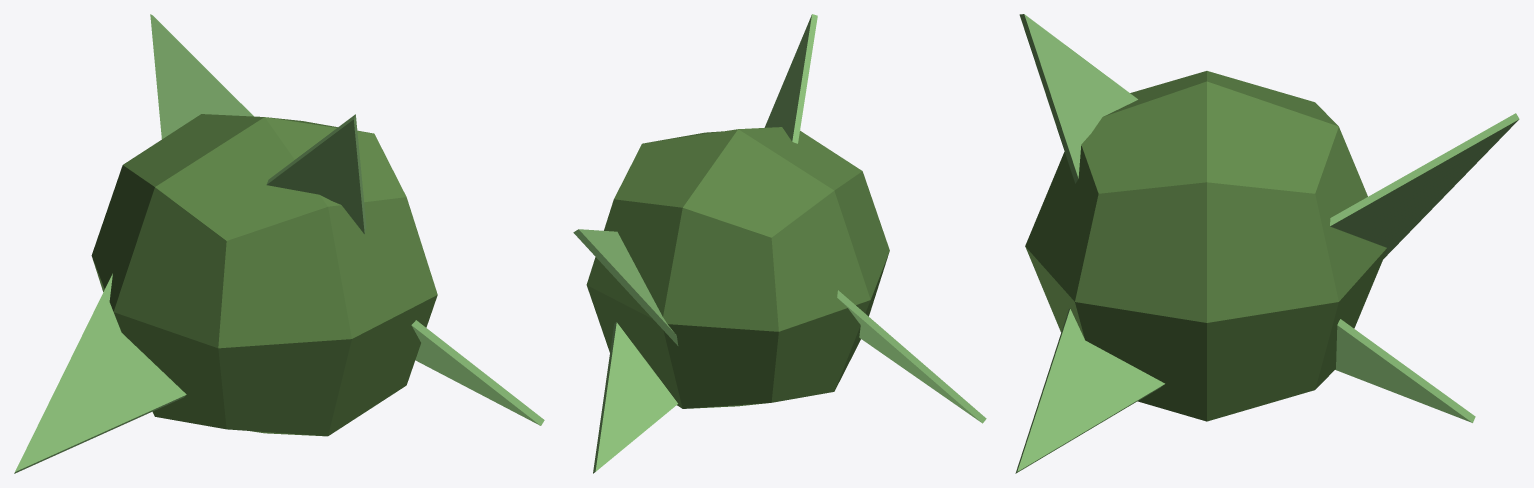
The picture shows the model from 3 angles, left to right: view 1: azimuth 30°, elevation 25°; view 2: azimuth 150°, elevation 25°; view 3: azimuth 270°, elevation 25°; orthographic projection. The views are drawn at different scales.
Parts seen in each view (by area): view 1: 立方体, 平面; view 2: 立方体, 平面; view 3: 立方体, 平面.
Boxes of the visible parts, box(x1,y1,x2,y2) form: 立方体: box(91, 114, 437, 436); 平面: box(14, 14, 544, 473); 立方体: box(586, 127, 889, 408); 平面: box(573, 14, 986, 473); 立方体: box(1025, 71, 1386, 421); 平面: box(1015, 14, 1519, 473).
Size of the model in its own units: 4.32 by 3.46 by 3.97.
